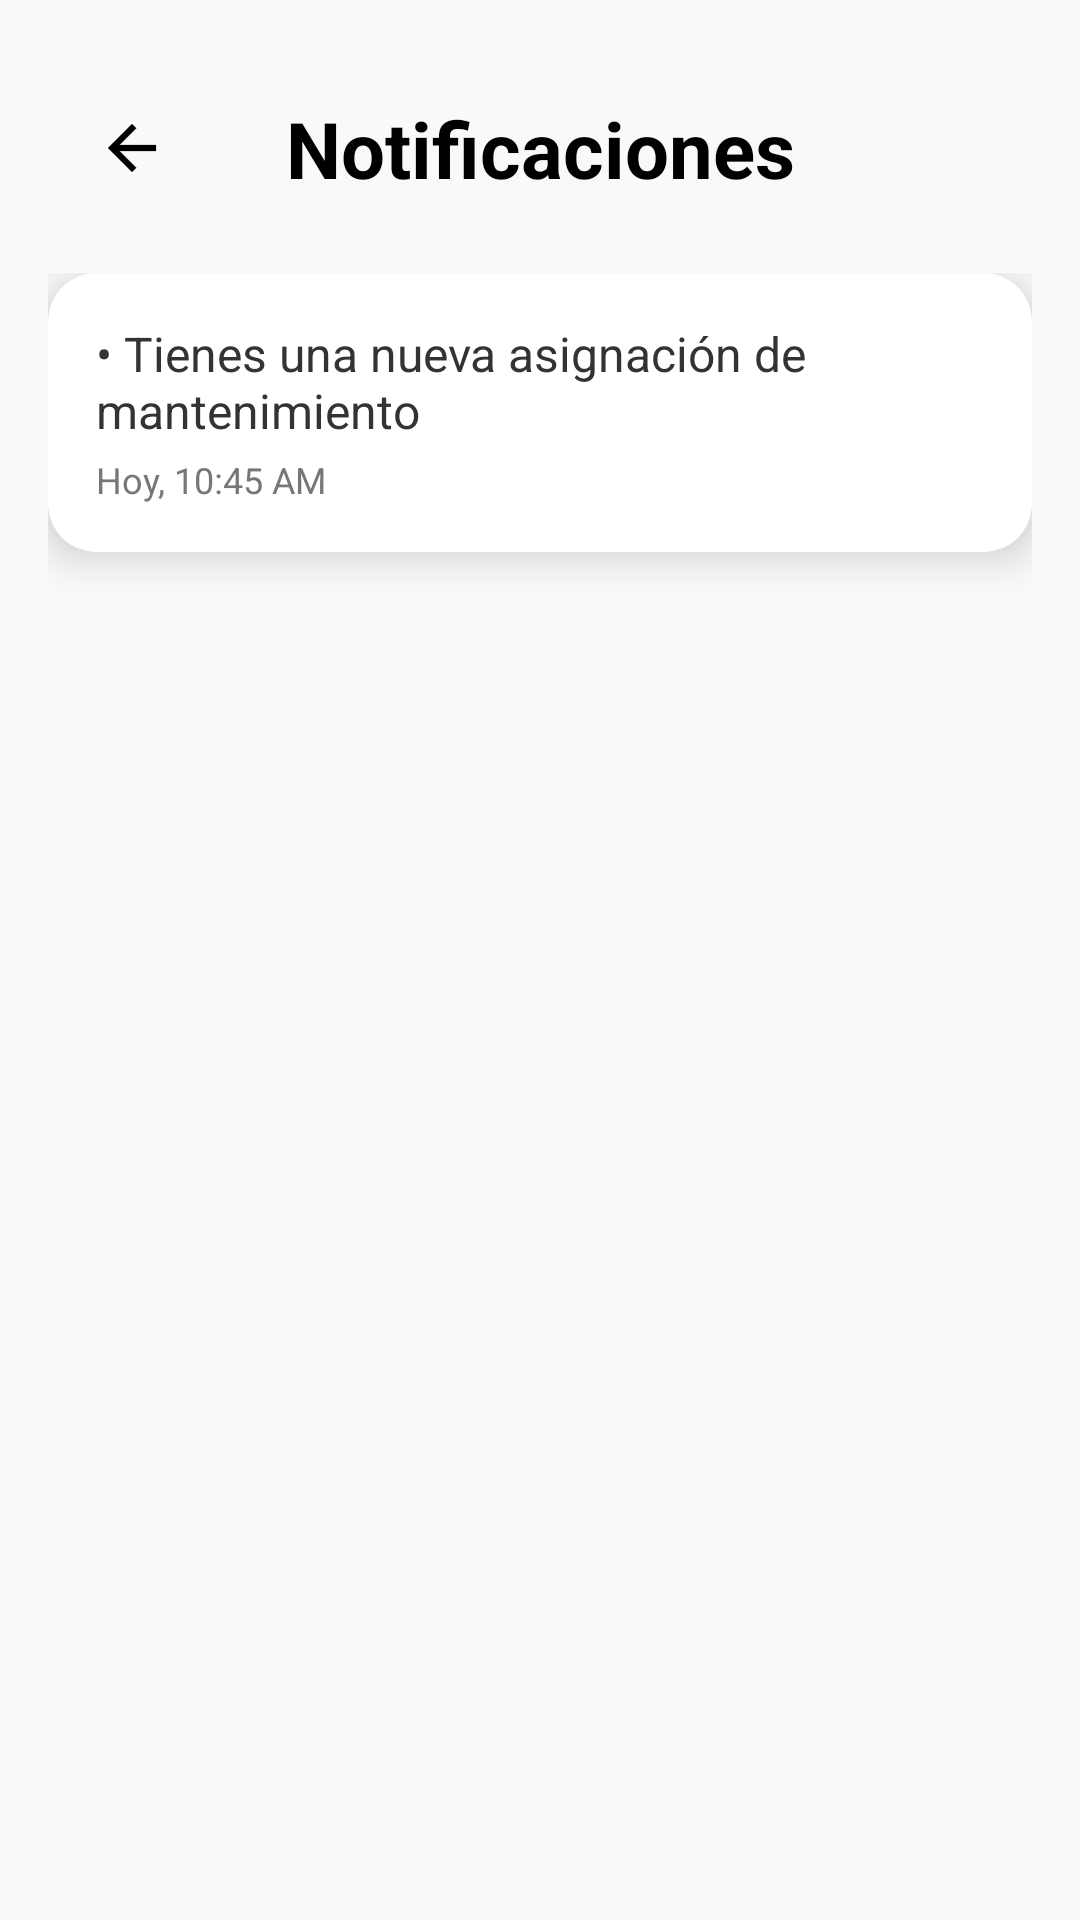

Icons on this 1080x1920 Android screen, each with its box as (x1, y1, x2, y2):
Volver atrás: (108, 124, 157, 172)
